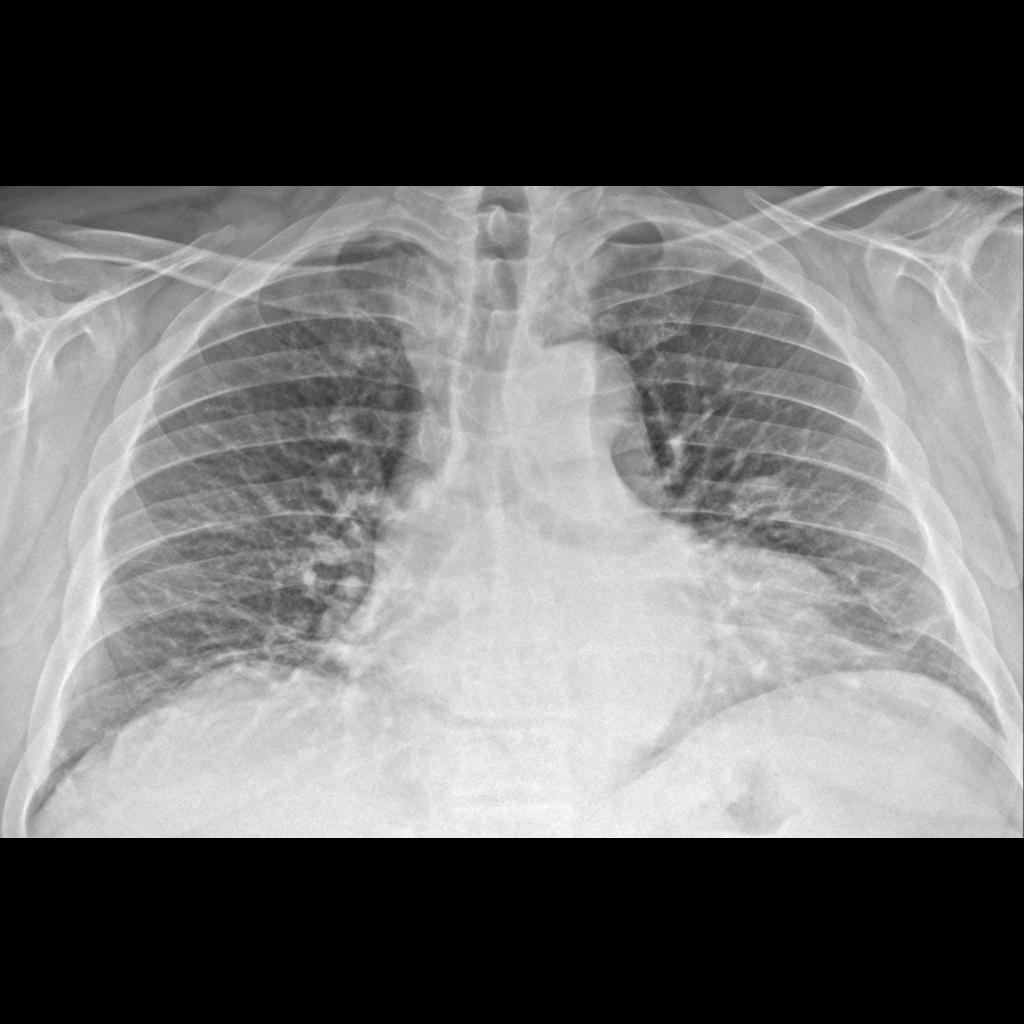Nodule: (720, 460, 808, 536)
